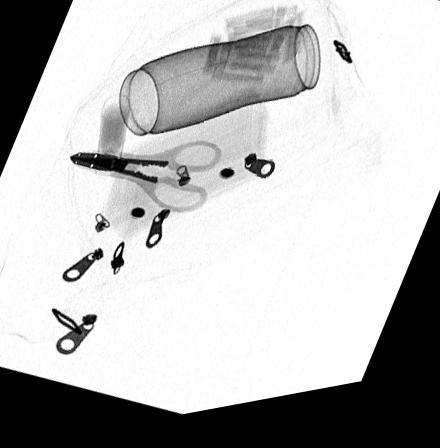Scissors: (69, 147, 221, 218)
